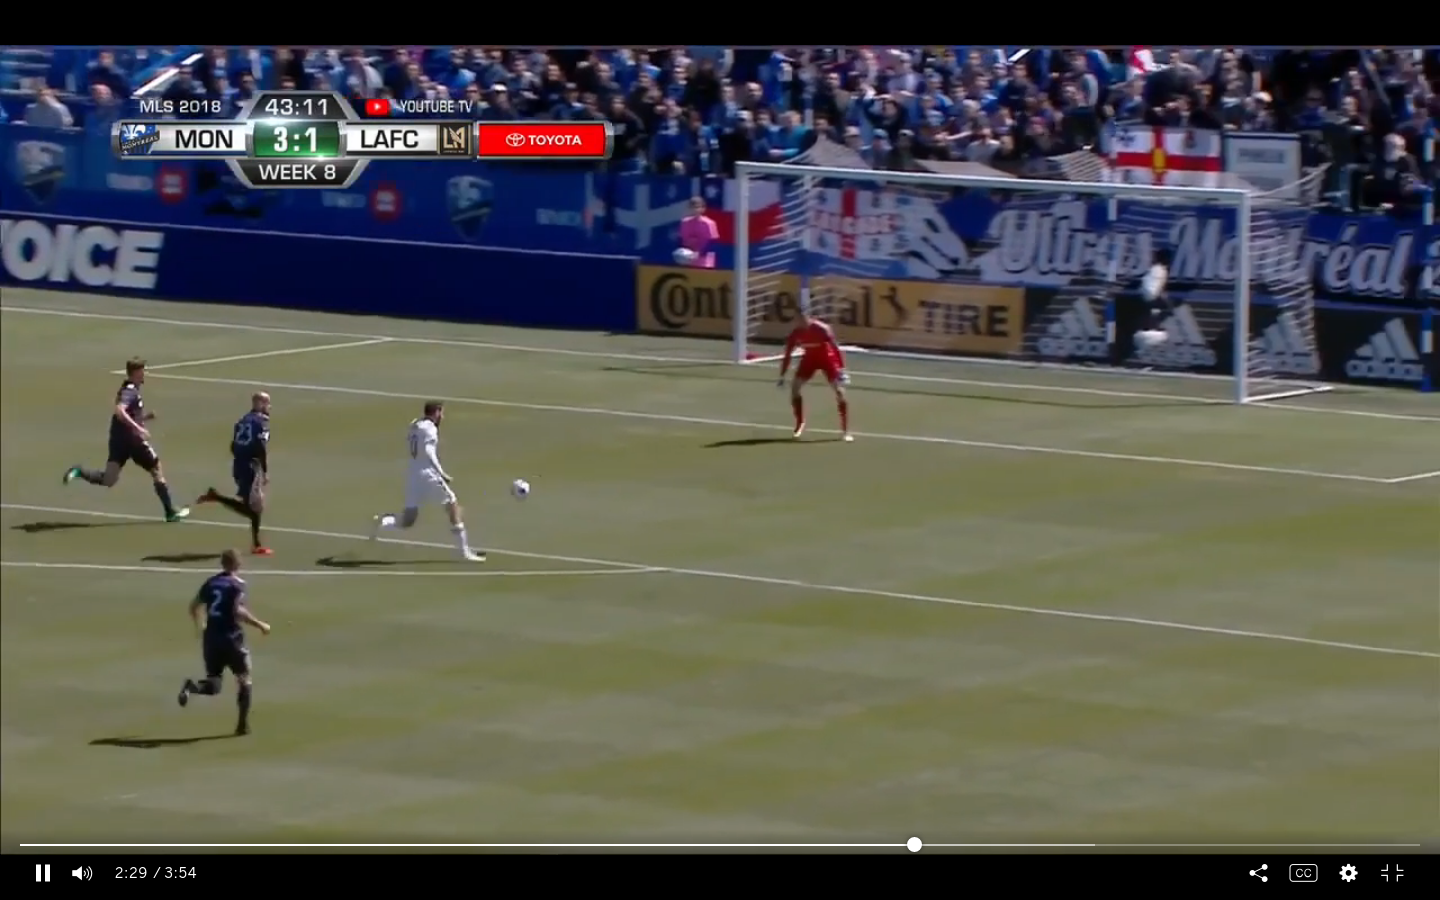soccer player: (62, 351, 195, 526), (364, 399, 496, 568), (175, 546, 268, 737), (195, 389, 281, 556), (773, 305, 868, 452)
soccerball: (504, 472, 539, 503)
